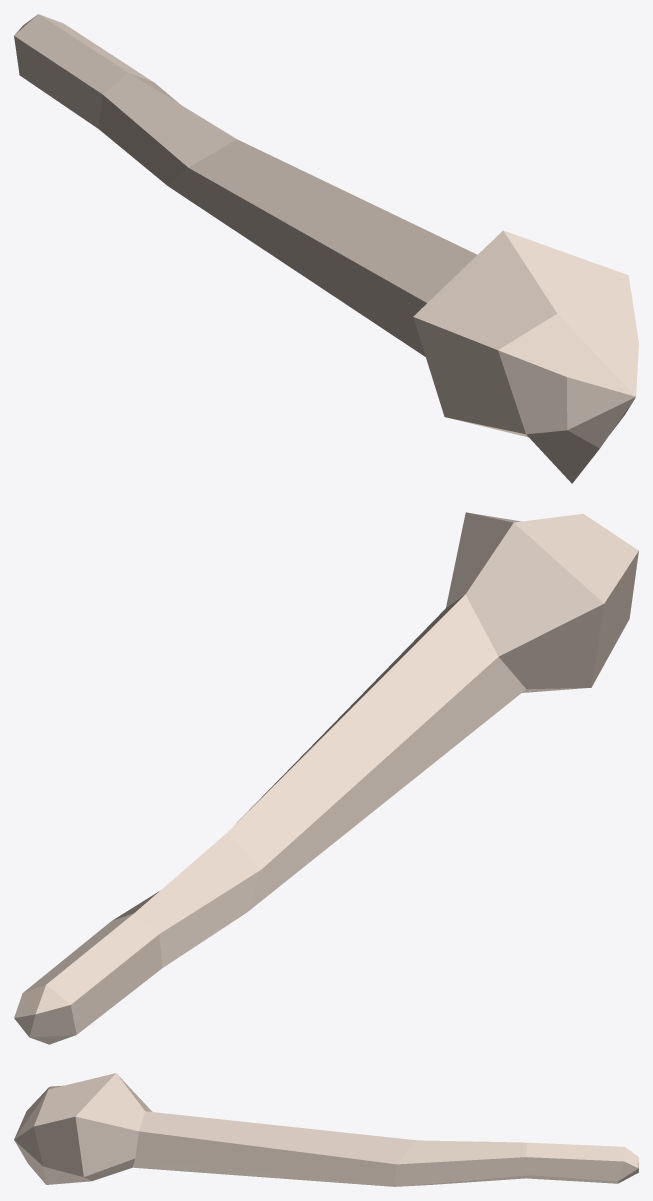
The model's file is f_bone.fbx.
The picture shows the model from 3 angles, top to bottom: view 1: azimuth 30°, elevation 25°; view 2: azimuth 150°, elevation 25°; view 3: azimuth 270°, elevation 25°; orthographic projection. The views are drawn at different scales.
Parts seen in each view (by area): view 1: bone; view 2: bone; view 3: bone.
Part boxes in pixels (x1,y1,x2,y2): bone: (14, 14, 638, 483); bone: (14, 512, 638, 1044); bone: (14, 1073, 638, 1186).
Bounding box in the file's own units: 13.47 × 14.02 × 71.55.
